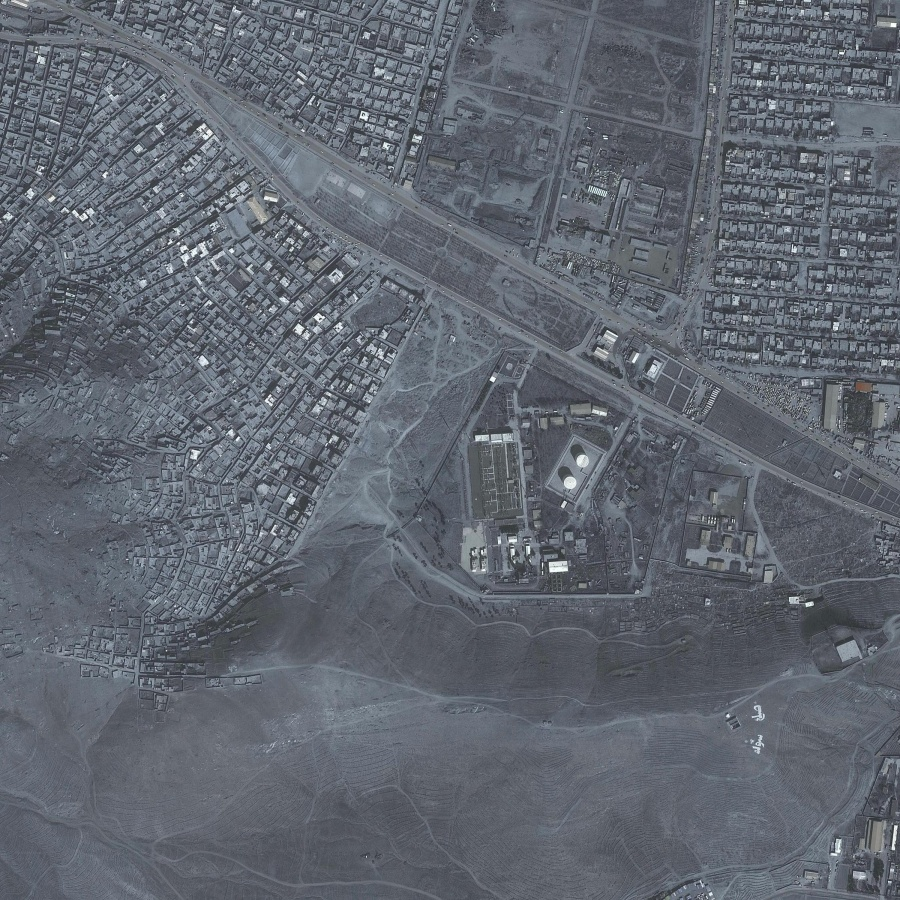PowerPlant: (470, 396, 613, 587)
